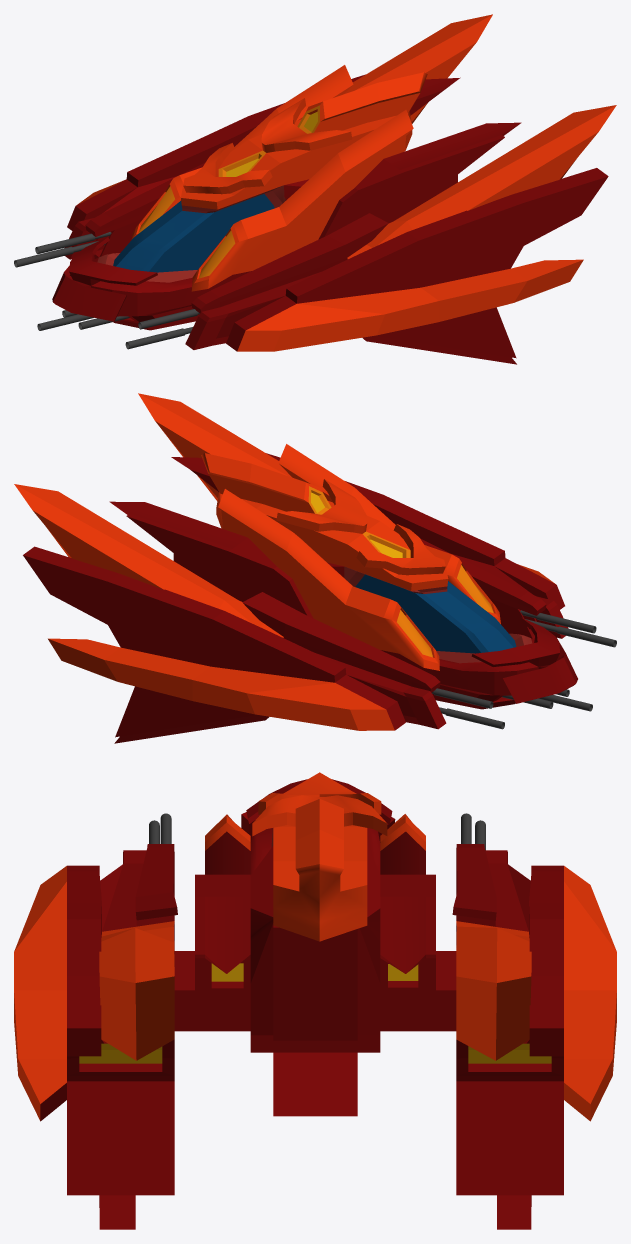
File: EnemyShip.fbx
The picture shows the model from 3 angles, top to bottom: view 1: azimuth 30°, elevation 25°; view 2: azimuth 150°, elevation 25°; view 3: azimuth 270°, elevation 25°; orthographic projection. The views are drawn at different scales.
Visible parts, largest first — view 1: EnemyShipV2, Canon9, Canon8, Canon7, Canon6; view 2: EnemyShipV2, Canon7, Canon6, Canon9, Canon8; view 3: EnemyShipV2.
Part boxes in pixels (bbox=[...]): EnemyShipV2: bbox=[52, 14, 616, 364]; Canon9: bbox=[14, 241, 105, 267]; Canon8: bbox=[35, 232, 111, 253]; Canon7: bbox=[125, 327, 192, 349]; Canon6: bbox=[138, 309, 199, 329]; EnemyShipV2: bbox=[14, 393, 577, 743]; Canon7: bbox=[525, 619, 616, 647]; Canon6: bbox=[520, 610, 596, 633]; Canon9: bbox=[439, 707, 504, 729]; Canon8: bbox=[432, 688, 493, 708]; EnemyShipV2: bbox=[14, 772, 616, 1229].
Bounding box in the file's own units: 21.76 × 9.78 × 15.11.
